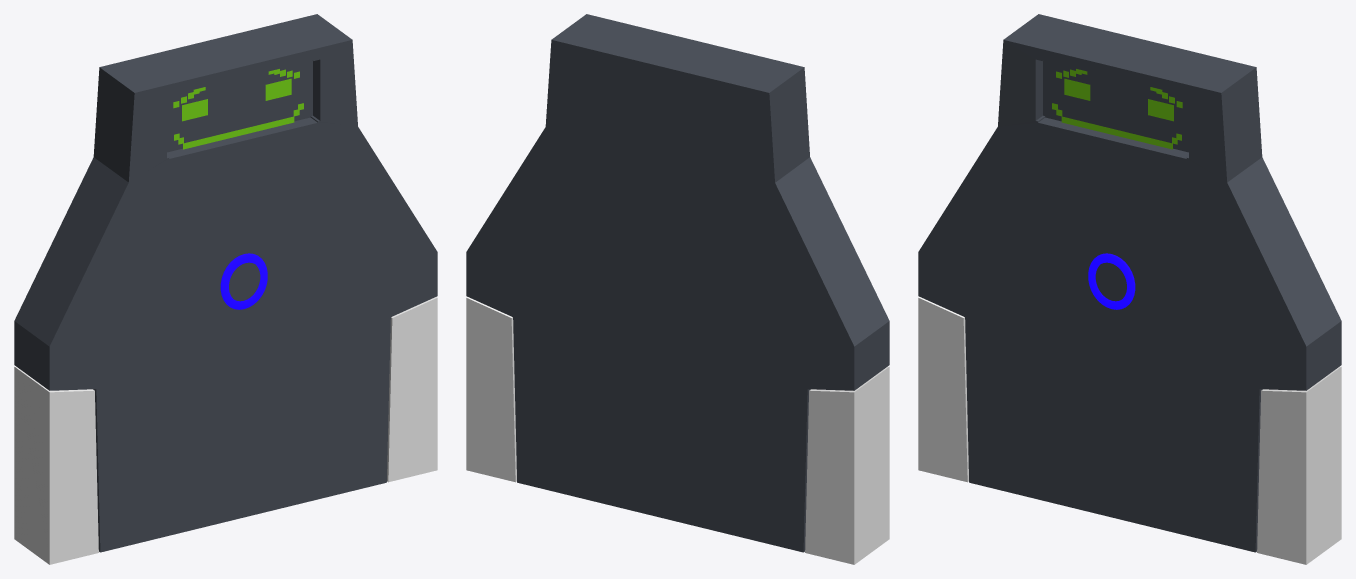
Rendered from Robo_combined.glb.
3 views of the same model, side by side, from view 1: azimuth 30°, elevation 25°; view 2: azimuth 150°, elevation 25°; view 3: azimuth 330°, elevation 25° (orthographic).
Parts seen in each view (by area): view 1: Body, Arme, Face, Heart; view 2: Body, Arme; view 3: Body, Arme, Face, Heart.
Part boxes in pixels (x1,y1,x2,y2): Body: (14,14,437,552); Arme: (14,297,437,564); Face: (173,69,303,149); Heart: (220,253,267,309); Body: (466,14,889,552); Arme: (466,297,889,564); Body: (918,14,1341,552); Arme: (918,297,1341,564); Face: (1052,69,1182,149); Heart: (1088,253,1135,309).
Size of the model in its own units: 4.46 by 4.96 by 0.7445.
